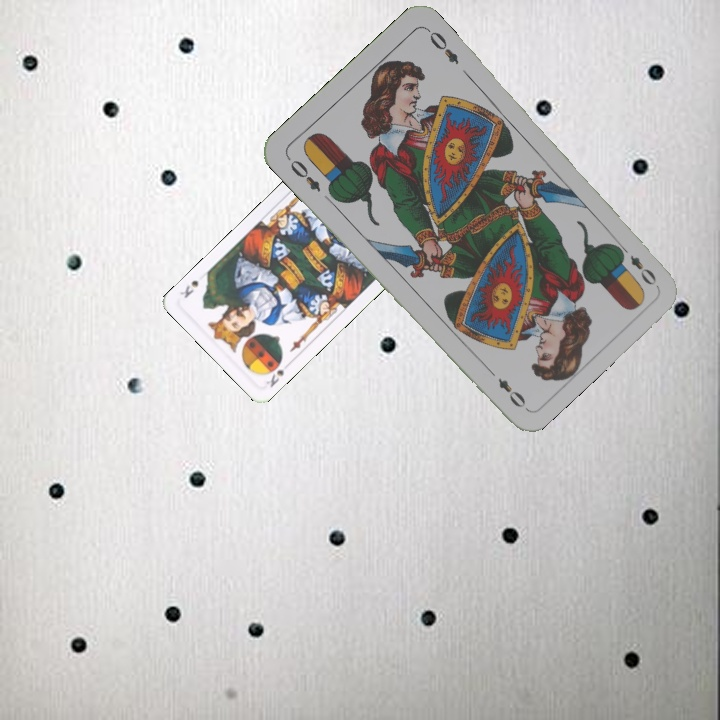EO: (614, 240, 660, 288), (286, 155, 324, 195)
SK: (262, 358, 294, 390)
